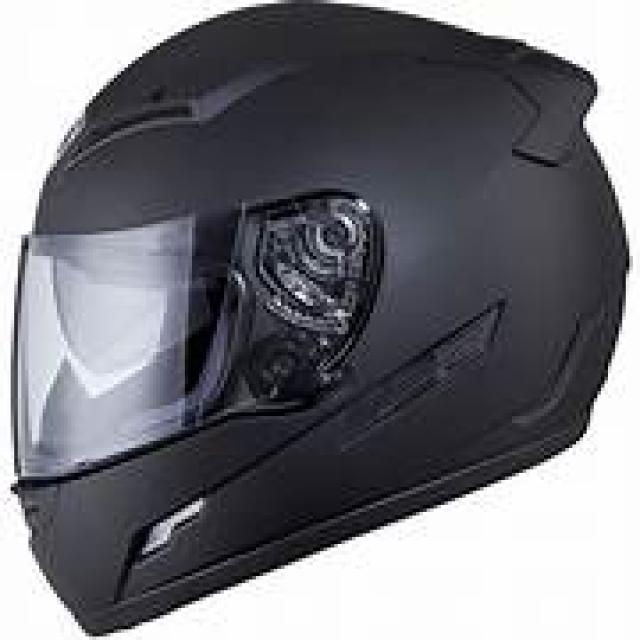helmet: (15, 4, 624, 632)
